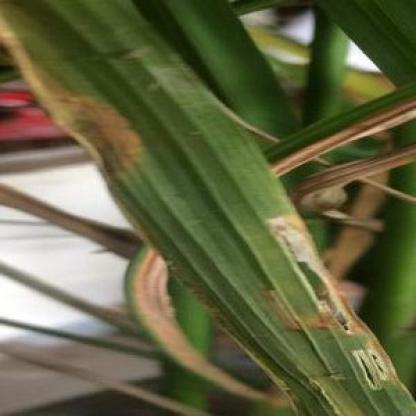Blight: (251, 202, 399, 392)
